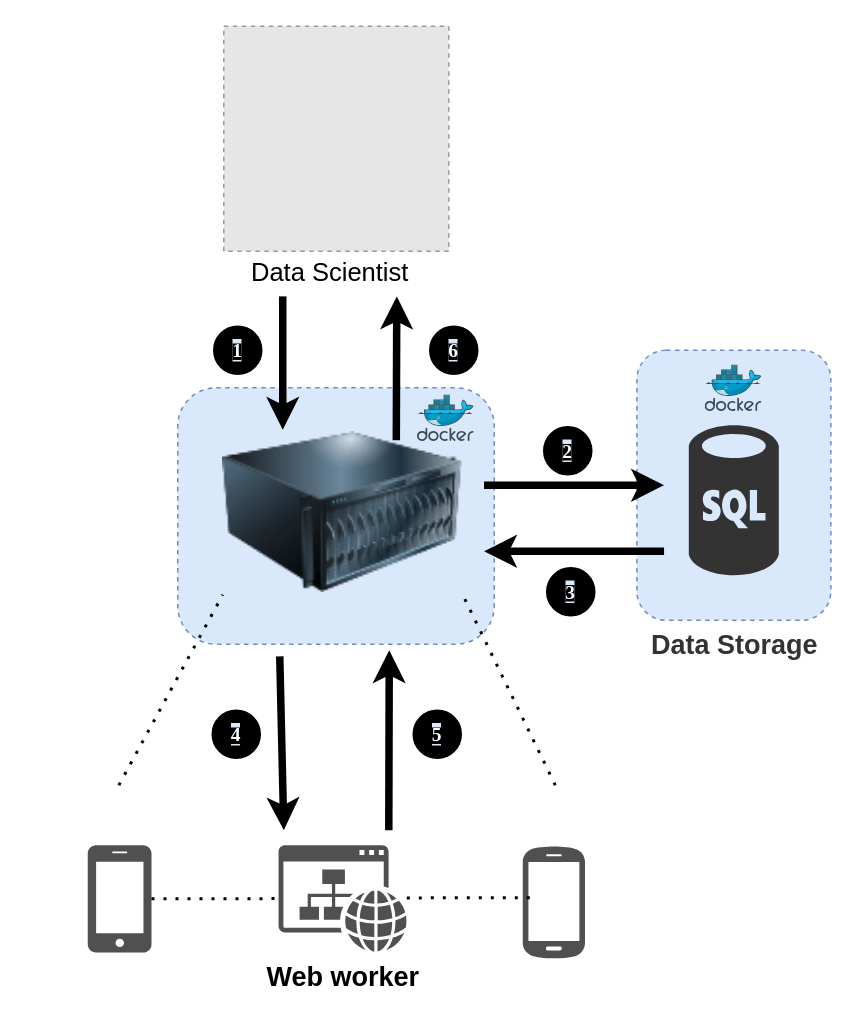
The diagram is 864 pixels wide and 1029 high, and some of its shapes have lost their labels. Grey dashed boxes stand in for pictures. Here are the shapes that lost their labels. From the top down, the centre of each, then its label:
point 342,511: Domain Server
point 119,898: Iphone Worker
point 553,901: Android worker
